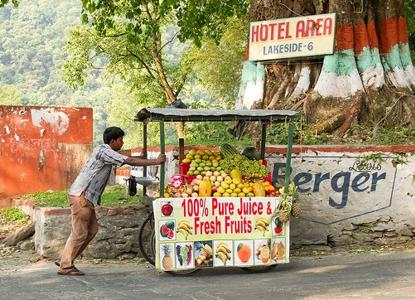person: (56, 126, 168, 277)
